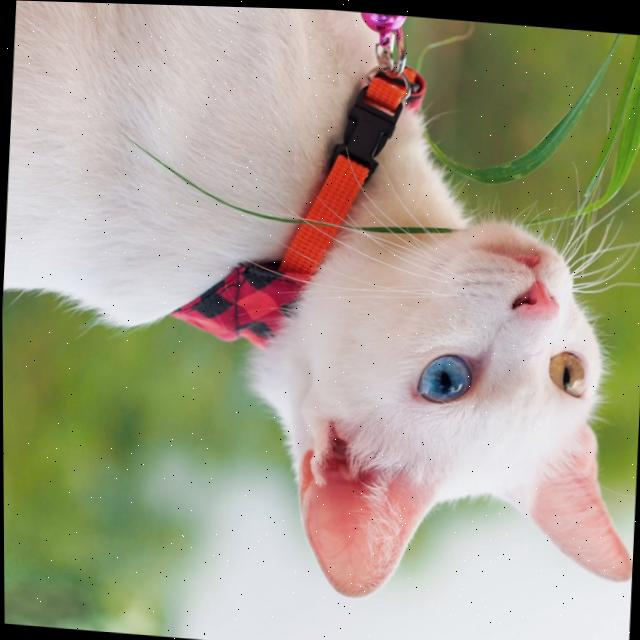Khao Manee: (0, 0, 640, 621)
